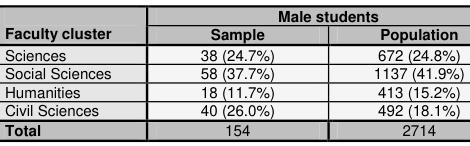table: (3, 4, 463, 139)
table column: (155, 4, 323, 139), (3, 4, 155, 139), (323, 4, 463, 139)
table column header: (3, 4, 463, 43)
table row: (3, 4, 463, 24), (3, 119, 463, 139), (3, 24, 463, 43), (3, 43, 463, 62), (3, 62, 463, 81), (3, 81, 463, 100), (3, 100, 463, 119)
table spanning cell: (155, 4, 463, 24), (3, 4, 155, 43)
